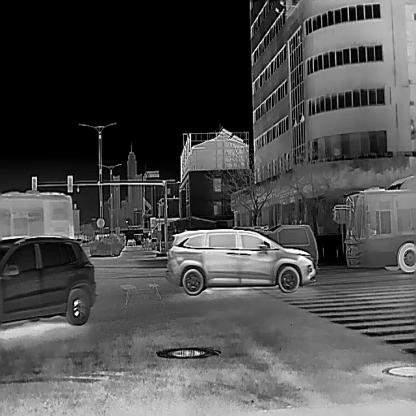bus: (0, 235, 98, 325), (332, 172, 416, 273), (0, 187, 74, 249)
car: (166, 228, 316, 294), (0, 234, 96, 325), (240, 224, 318, 270), (126, 238, 134, 245)
